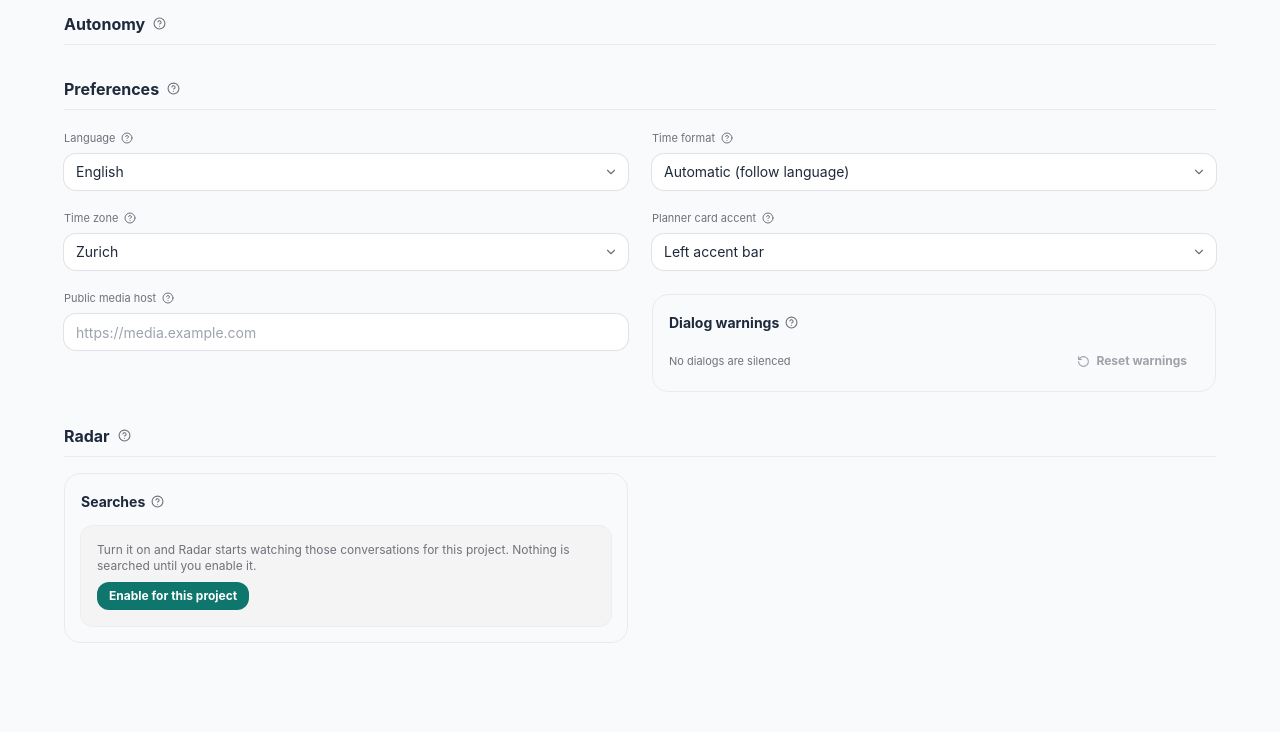
Settings language › reverts the language select to the prior value when the write rejects
The width and height of the screenshot is (1280, 732).
Select "Deutsch (Schweiz)" in the dropdown labelled "Language": point(346, 172) top-left (64, 154), bottom-right (628, 190)
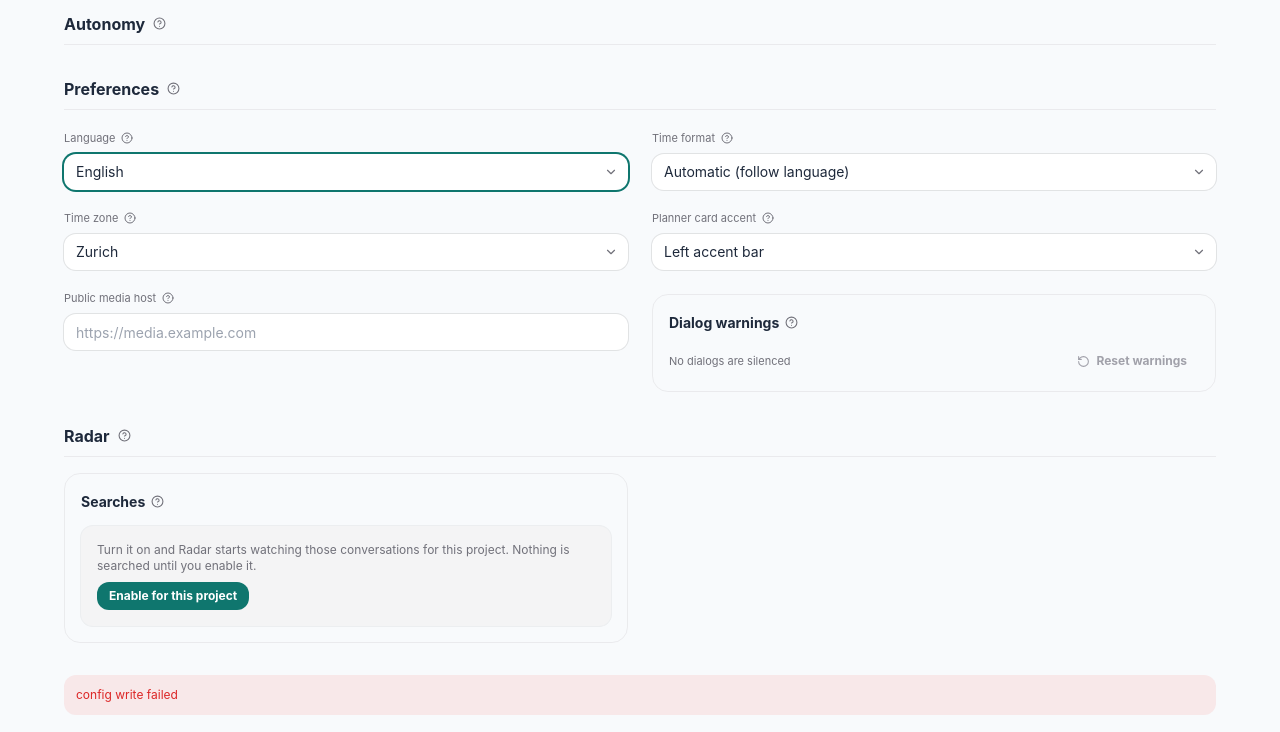
Expected: the message "config write failed" is shown, top-left (64, 675), bottom-right (1216, 715)
